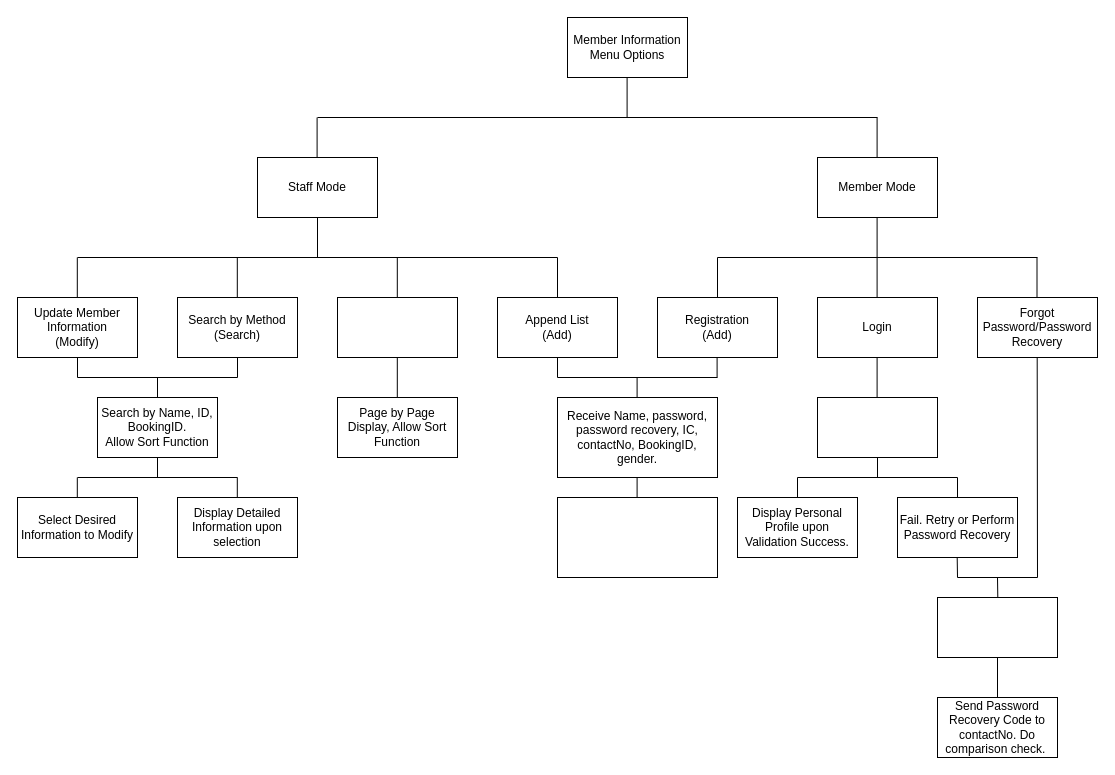
Image size: 1115x775. Some labels were removed from this diagram. Here are the shapes that lost their labels. From the top down, the centre of each, then its label:
At (x=397, y=327): "List of All Members (Display)".
At (x=877, y=427): "Receive Name and Password. Perform Data Validation".
At (x=637, y=537): "Data Validation, Check if already Existing, Confirmation, Append Record.".
At (x=997, y=627): "Receive Name and IC. Compare with record. Proceed if found".
